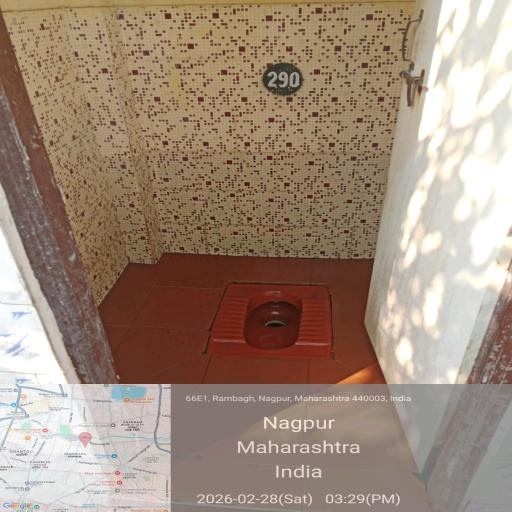clean_floor: (16, 11, 426, 257), (85, 329, 404, 510)
clean_indian: (216, 272, 355, 404)
